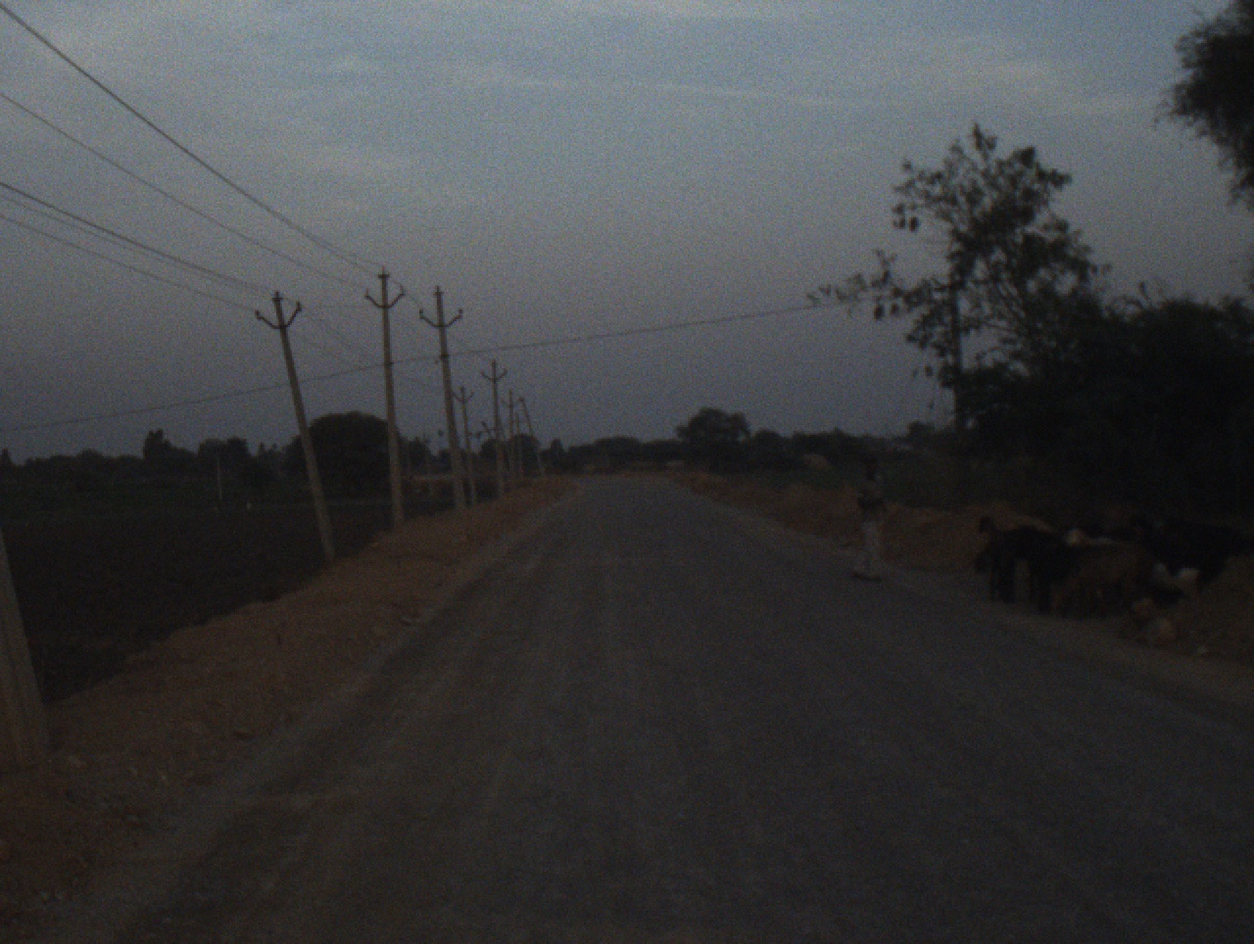animal: (977, 511, 1034, 589), (1059, 511, 1141, 547), (1157, 540, 1209, 578)
person: (849, 444, 894, 587)
